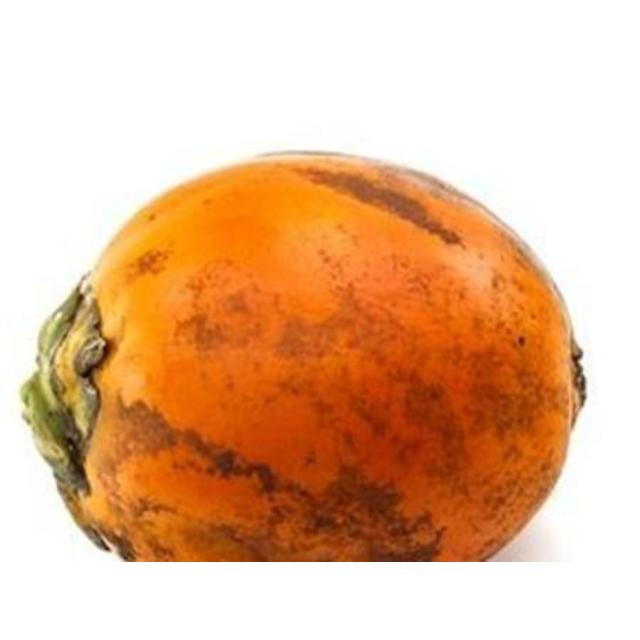good: (18, 152, 586, 560)
